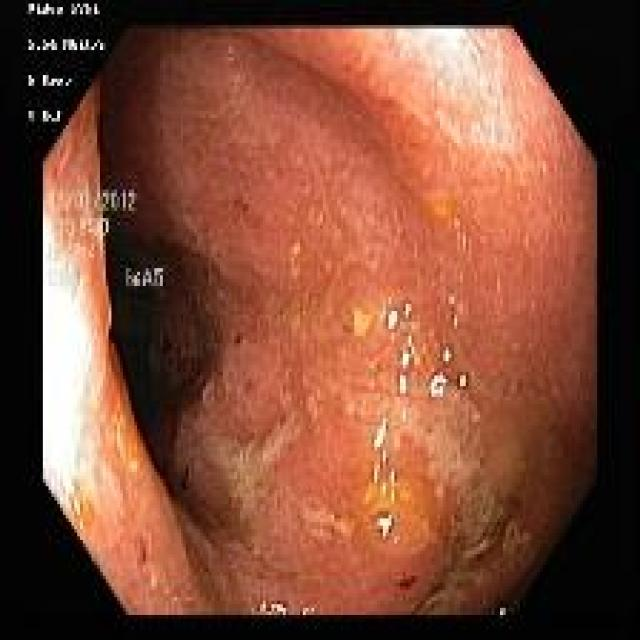ulcerative-colitis: (42, 28, 596, 616)
